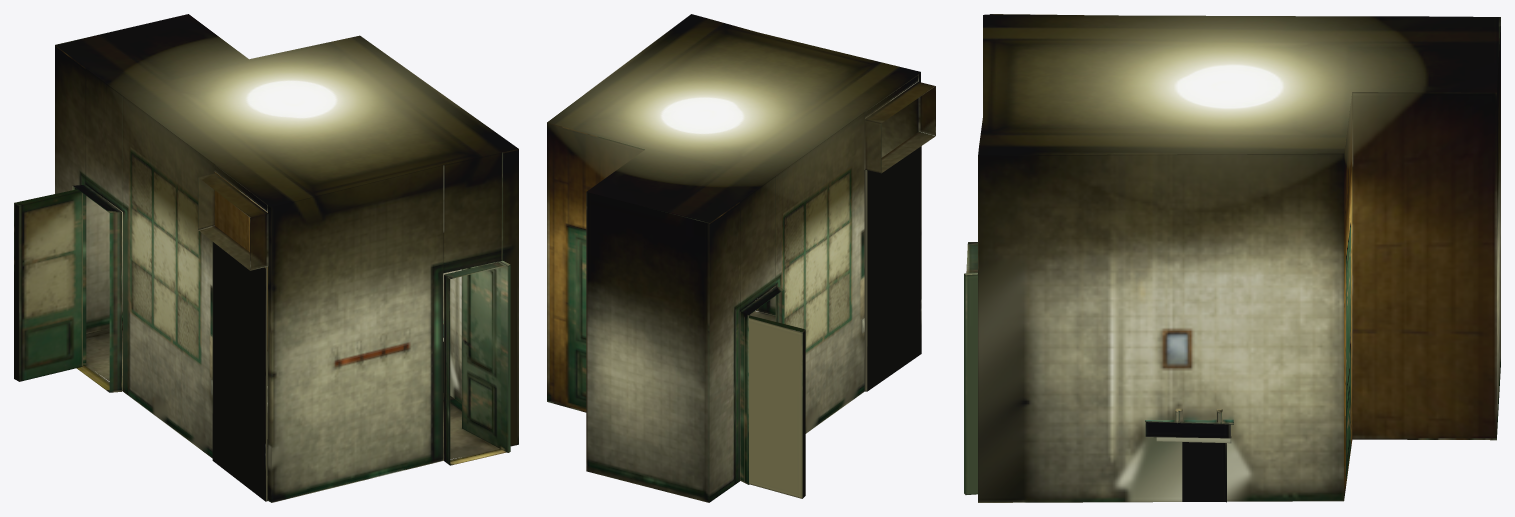
The model's file is batiment.glb.
3 views of the same model, side by side, from view 1: azimuth 30°, elevation 25°; view 2: azimuth 150°, elevation 25°; view 3: azimuth 270°, elevation 25° (orthographic). The views are drawn at different scales.
Visible parts, largest first — view 1: Object_2; view 2: Object_2; view 3: Object_2.
Part boxes in pixels (x1,y1,x2,y2): Object_2: [14, 14, 518, 502]; Object_2: [547, 14, 935, 502]; Object_2: [964, 14, 1500, 502].
Bounding box in the file's own units: 8.74 × 7.8 × 10.92.
1 material, 1 textured.
